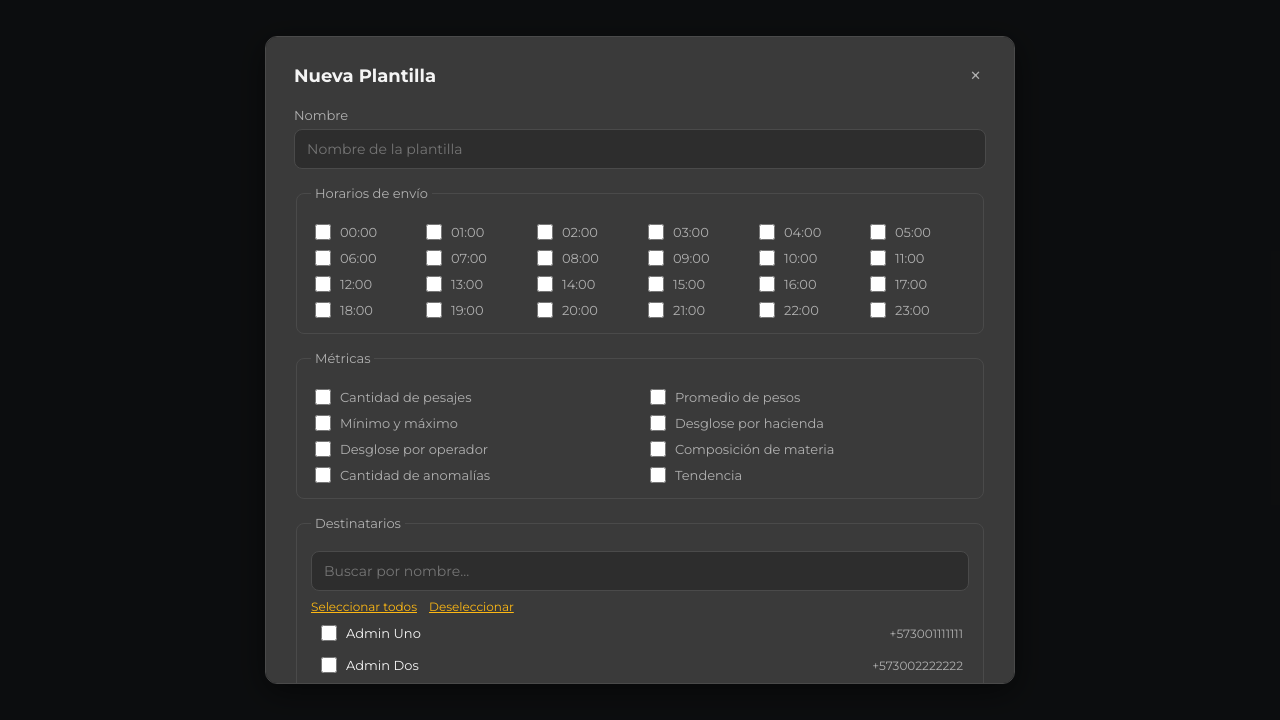
Test: TemplateFormModal › selector de usuarios (R19) › filtra usuarios por nombre con la busqueda
This screenshot has width=1280, height=720.
Expected: the text "Admin Uno" is shown, [346,625,421,641]
Type in search box
Type "Corr" into the field with placeholder "Buscar por nombre..." at (640, 571), box [311,551,969,591]
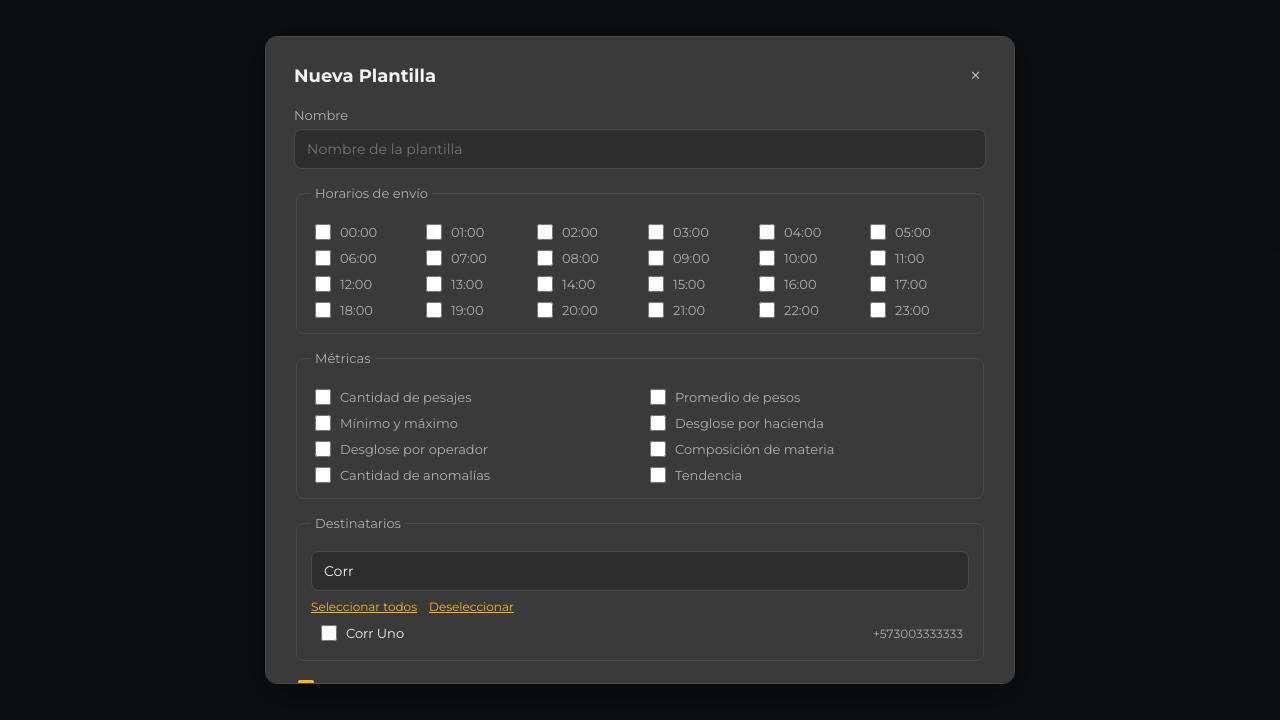
Result: the text "Corr Uno" is shown at [346,625,404,641]
Result: the text "Admin Uno" is gone
